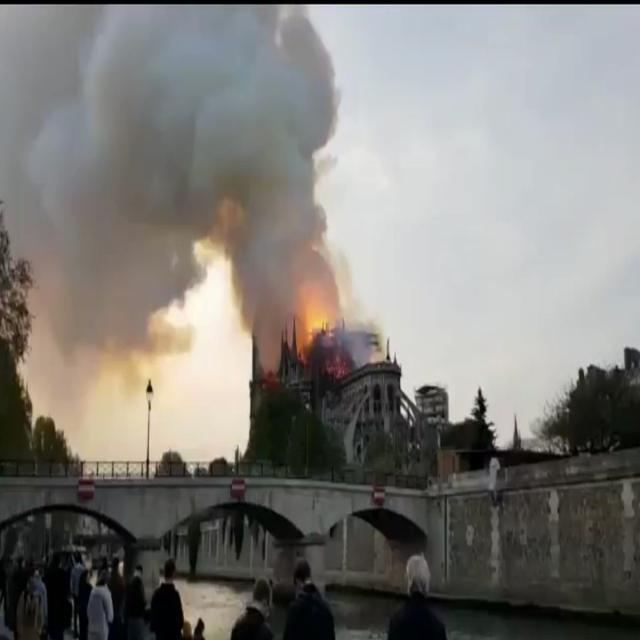Fire: (302, 298, 336, 344)
Smoke: (0, 5, 384, 370)
